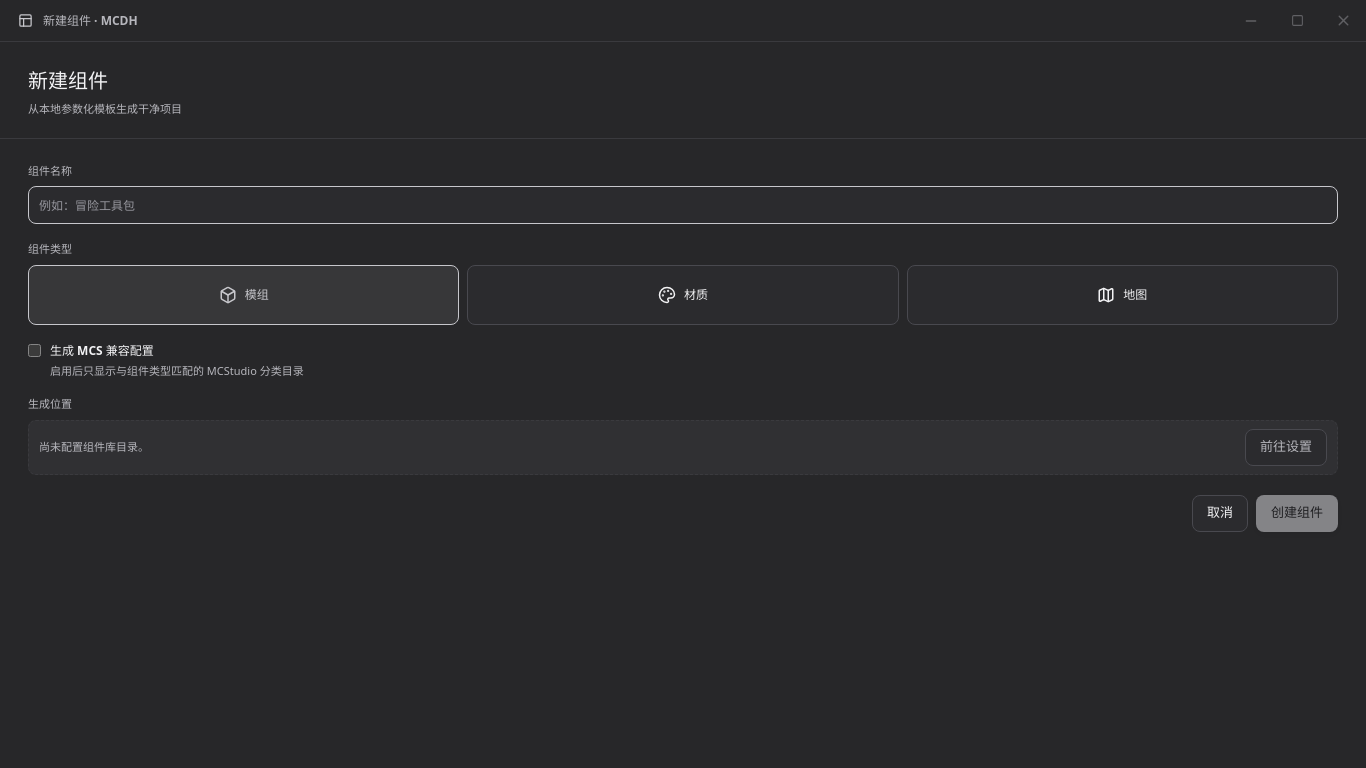
Test case: standalone dialog application › refreshes available destinations when another window changes the workspace
Click the button "前往设置".
click(1286, 447)  # box [1245, 428, 1327, 466]
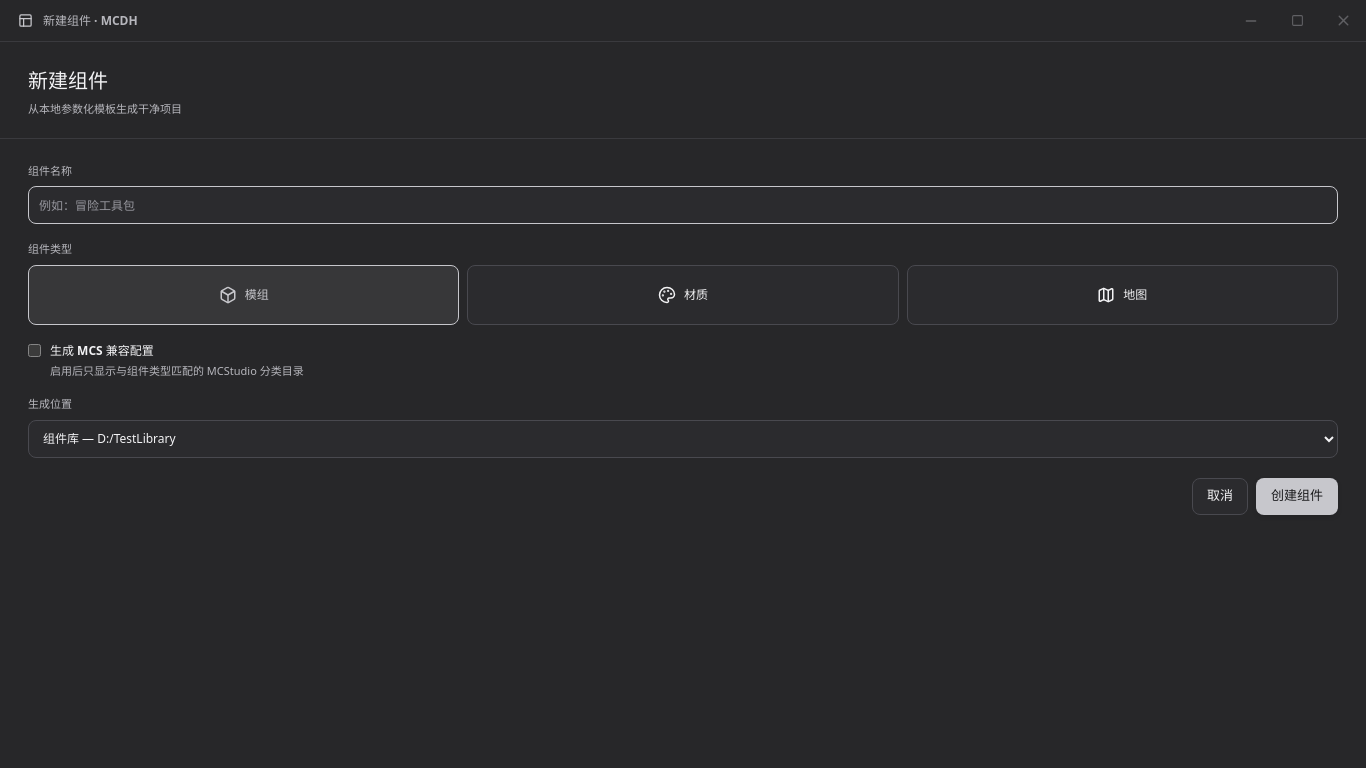
Expected: the dropdown labelled "生成位置" shows "组件库 — D:/TestLibrary", [28, 420, 1338, 458]
